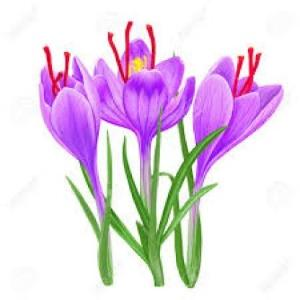Saffron: (86, 37, 196, 159), (185, 57, 286, 189), (39, 55, 105, 176)
